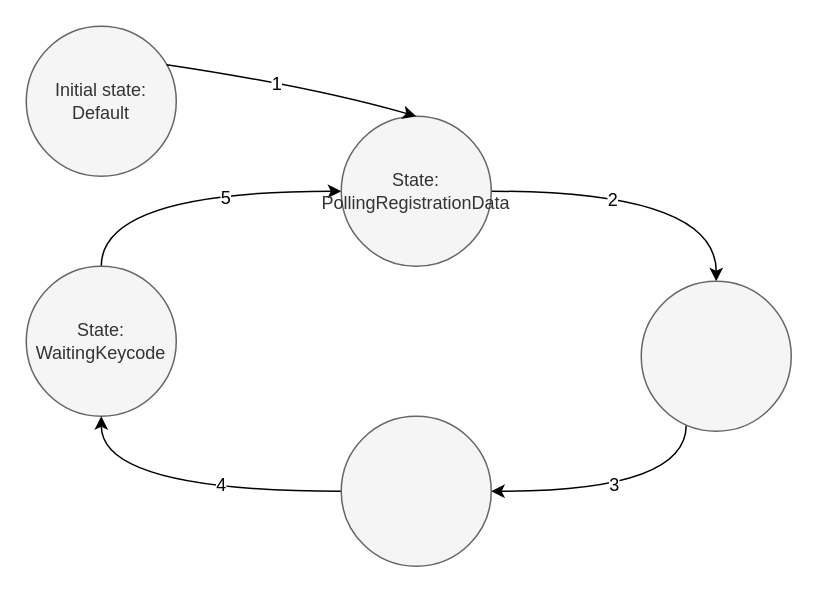
This 830x593 diagram has some shape labels left out. The centre of each missing label's shape, as x and y in pixels:
"State: Done" goes at point (415, 490).
"State: WaitingSignatureData" goes at point (715, 355).
